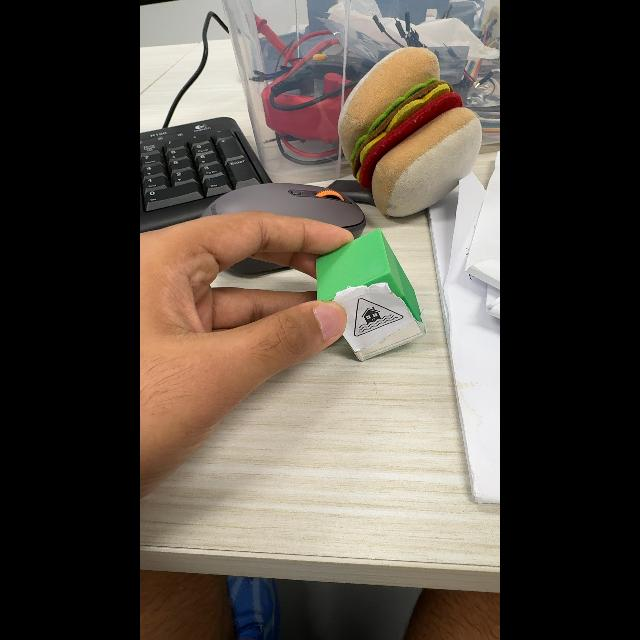Tsunami: (354, 298, 403, 337)
